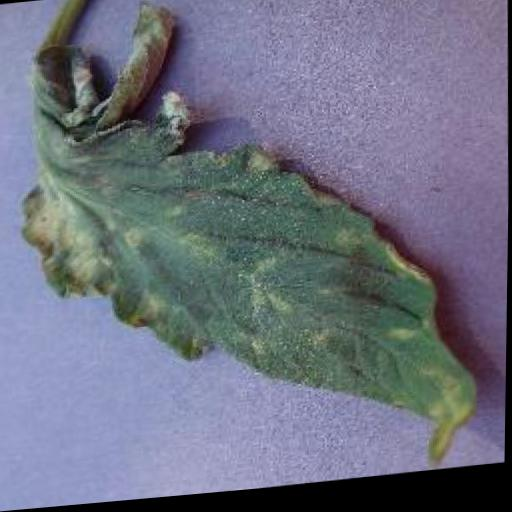Leaf Mold: (12, 0, 488, 511)
